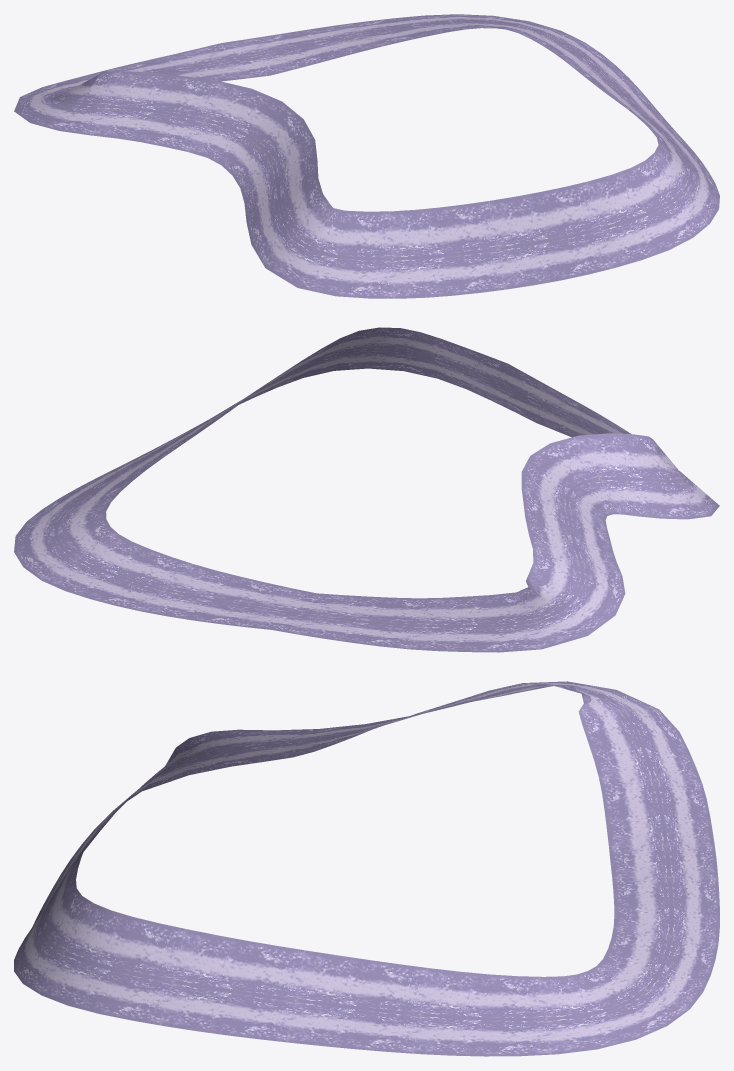
Rendered from OldHillMap_track.fbx.
3 views of the same model, one above another, from view 1: azimuth 30°, elevation 25°; view 2: azimuth 150°, elevation 25°; view 3: azimuth 270°, elevation 25° (orthographic). The views are drawn at different scales.
Visible parts, largest first — view 1: loftedSurface2; view 2: loftedSurface2; view 3: loftedSurface2.
Boxes of the visible parts, left/top/right/bottom form: loftedSurface2: left=14, top=14, right=719, bottom=298; loftedSurface2: left=14, top=327, right=719, bottom=652; loftedSurface2: left=14, top=681, right=719, bottom=1056.
Bounding box in the file's own units: 233 × 44.54 × 221.
Materials: 1 (1 with a texture image).
